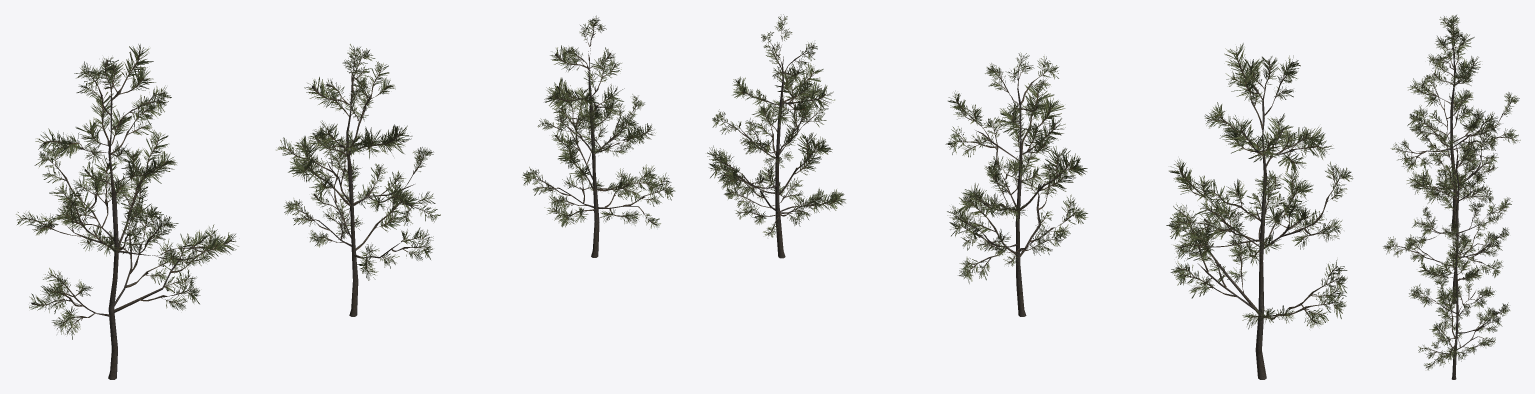
The model's file is pine_sapling_small.glb.
3 views of the same model, side by side, from view 1: azimuth 30°, elevation 25°; view 2: azimuth 150°, elevation 25°; view 3: azimuth 270°, elevation 25° (orthographic). The views are drawn at different scales.
Parts seen in each view (by area): view 1: pine_sapling_small_a, pine_sapling_small_b, pine_sapling_small_c; view 2: pine_sapling_small_a, pine_sapling_small_b, pine_sapling_small_c; view 3: pine_sapling_small_a, pine_sapling_small_b, pine_sapling_small_c.
Part boxes in pixels (bbox=[...]): pine_sapling_small_a: bbox=[16, 44, 238, 379]; pine_sapling_small_b: bbox=[276, 44, 440, 316]; pine_sapling_small_c: bbox=[522, 15, 675, 257]; pine_sapling_small_a: bbox=[1166, 43, 1353, 379]; pine_sapling_small_b: bbox=[945, 52, 1087, 316]; pine_sapling_small_c: bbox=[707, 14, 845, 258]; pine_sapling_small_a: bbox=[1390, 15, 1520, 231]; pine_sapling_small_b: bbox=[1383, 134, 1512, 304]; pine_sapling_small_c: bbox=[1409, 224, 1510, 379].
Size of the model in its own units: 2.64 by 1.3 by 0.7703.
Materials: 2 (2 with a texture image).
